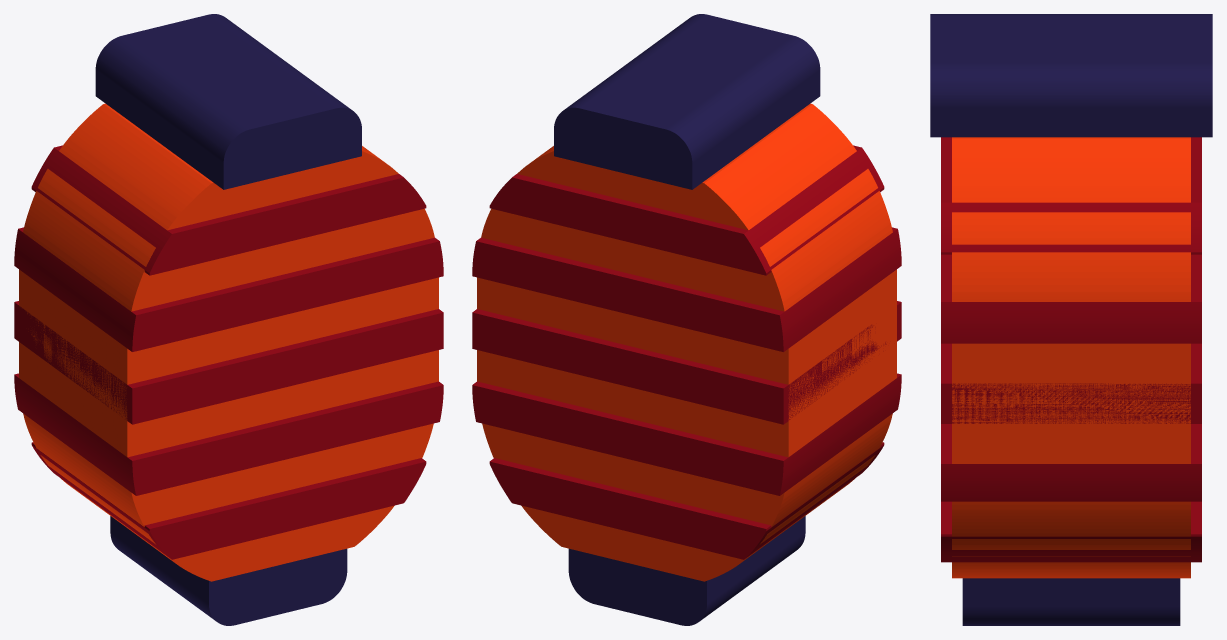
3 views of the same model, side by side, from view 1: azimuth 30°, elevation 25°; view 2: azimuth 150°, elevation 25°; view 3: azimuth 270°, elevation 25° (orthographic). The views are drawn at different scales.
Visible parts, largest first — view 1: U+1F3EE_layer01_obj00, U+1F3EE_layer02_obj00, U+1F3EE_layer03_obj00, U+1F3EE_layer00_obj00; view 2: U+1F3EE_layer01_obj00, U+1F3EE_layer02_obj00, U+1F3EE_layer03_obj00, U+1F3EE_layer00_obj00; view 3: U+1F3EE_layer01_obj00, U+1F3EE_layer02_obj00, U+1F3EE_layer03_obj00, U+1F3EE_layer00_obj00.
Part boxes in pixels (bbox=[...]): U+1F3EE_layer01_obj00: bbox=[19, 103, 438, 581]; U+1F3EE_layer02_obj00: bbox=[14, 145, 443, 559]; U+1F3EE_layer03_obj00: bbox=[95, 14, 361, 189]; U+1F3EE_layer00_obj00: bbox=[110, 516, 347, 625]; U+1F3EE_layer01_obj00: bbox=[477, 103, 896, 581]; U+1F3EE_layer02_obj00: bbox=[472, 145, 901, 559]; U+1F3EE_layer03_obj00: bbox=[554, 14, 820, 189]; U+1F3EE_layer00_obj00: bbox=[568, 516, 805, 625]; U+1F3EE_layer01_obj00: bbox=[952, 137, 1190, 578]; U+1F3EE_layer02_obj00: bbox=[941, 137, 1201, 562]; U+1F3EE_layer03_obj00: bbox=[930, 14, 1212, 137]; U+1F3EE_layer00_obj00: bbox=[962, 578, 1180, 625].
Bounding box in the file's own units: 0.3652 × 0.5677 × 0.26.
